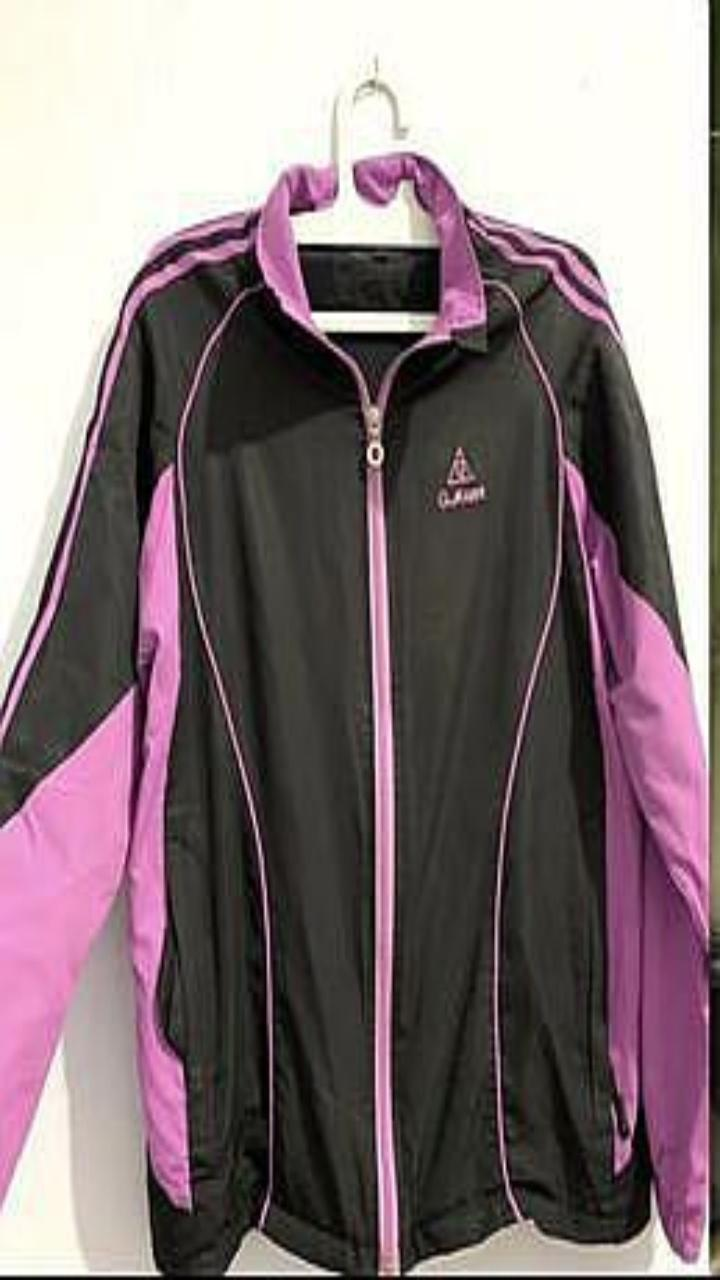Sports_Jacket: (0, 151, 708, 1274)
